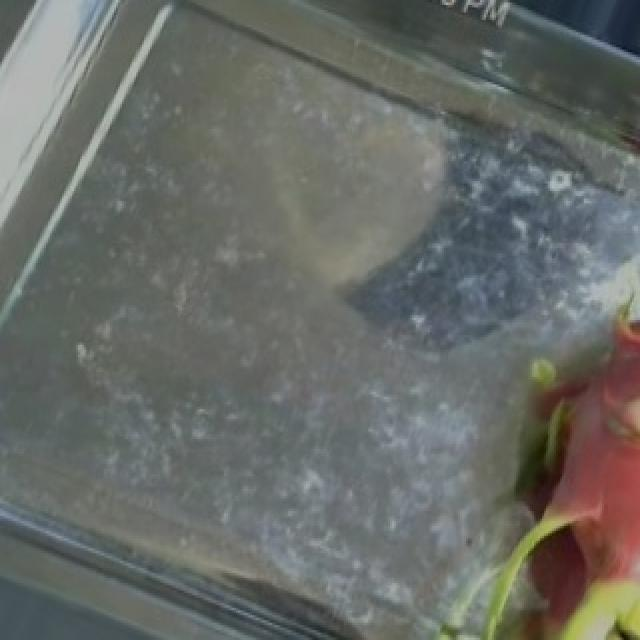fruit: (356, 265, 640, 640)
